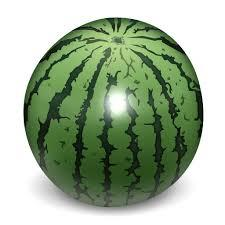non-mango: (23, 16, 203, 207)
